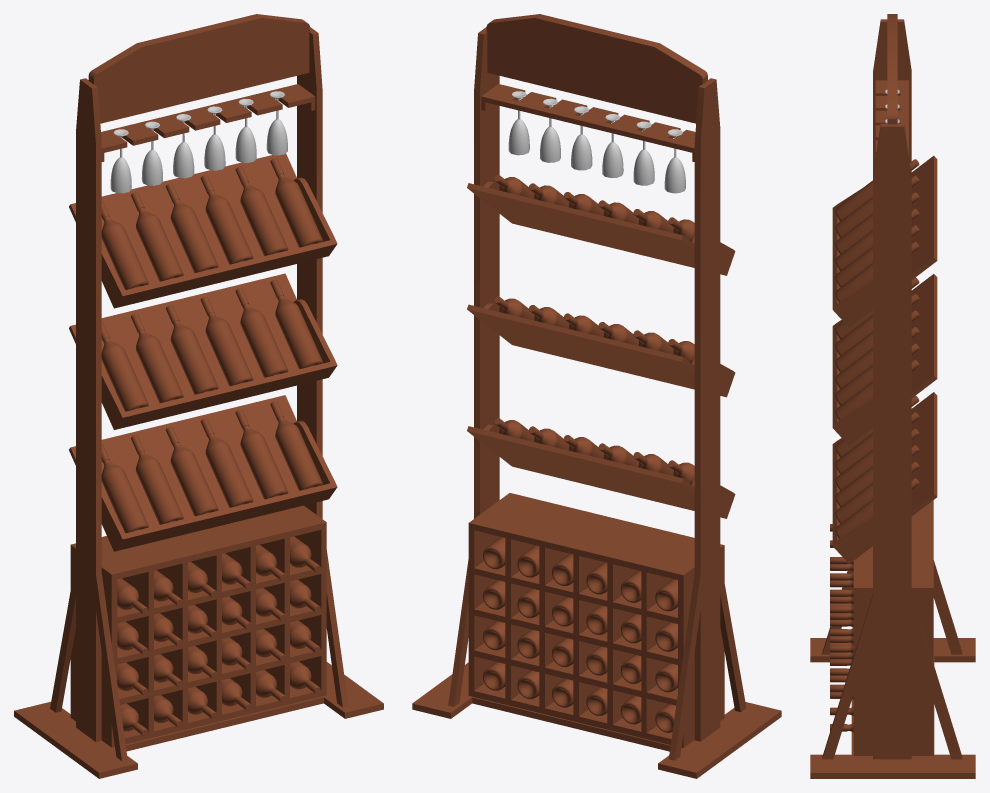
The model's file is Winestand.fbx.
3 renders of one model, left to right at view 1: azimuth 30°, elevation 25°; view 2: azimuth 150°, elevation 25°; view 3: azimuth 270°, elevation 25°, orthographic. The views are drawn at different scales.
Parts seen in each view (by area): view 1: Winestand; view 2: Winestand; view 3: Winestand.
Boxes of the visible parts, <box> form: Winestand: <box>14,14,383,778</box>; Winestand: <box>412,14,781,778</box>; Winestand: <box>810,14,975,778</box>.
Bounding box in the file's own units: 98.01 × 225 × 50.7.
